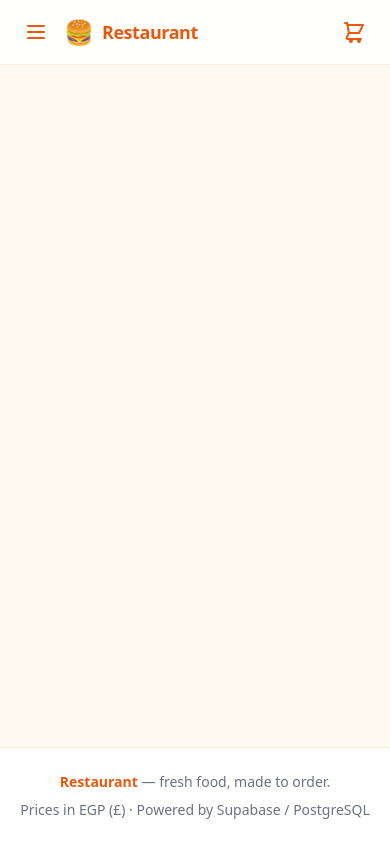
Test: role-aware navigation › shows matching driver and chef links on both menus
Click the button named "Toggle navigation menu" at {"x": 36, "y": 32}, box [16,12,56,52]
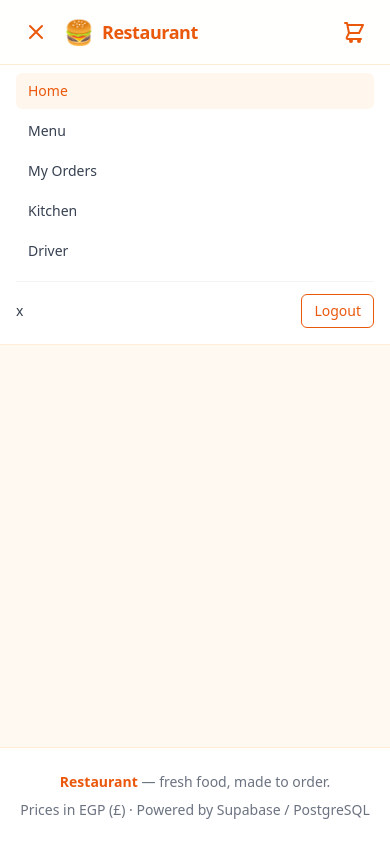
expect the text "Driver" is shown 2 times: met
expect the text "Kitchen" is shown 2 times: met
